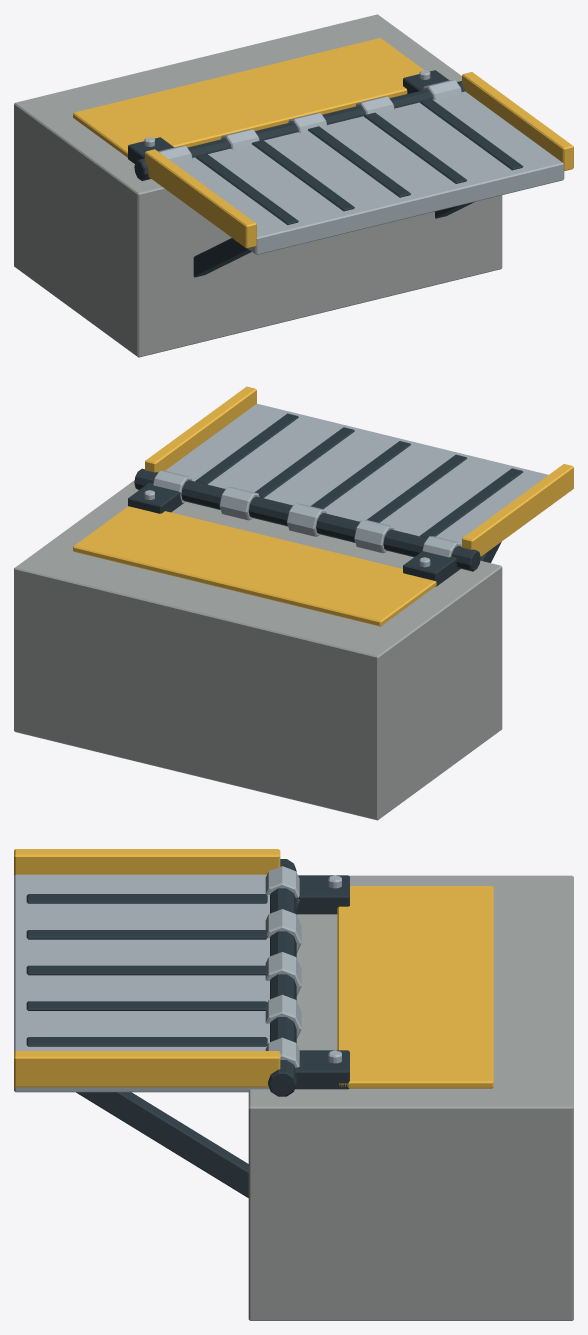
Rendered from b13_hinged_platform_gap_bridge.glb.
The picture shows the model from 3 angles, top to bottom: view 1: azimuth 30°, elevation 25°; view 2: azimuth 150°, elevation 25°; view 3: azimuth 270°, elevation 25°; orthographic projection. The views are drawn at different scales.
Parts seen in each view (by area): view 1: b13_hinged_platform_gap_bridge; view 2: b13_hinged_platform_gap_bridge; view 3: b13_hinged_platform_gap_bridge.
Boxes of the visible parts, x1=… form: b13_hinged_platform_gap_bridge: x1=14, y1=14, x2=573, y2=357; b13_hinged_platform_gap_bridge: x1=14, y1=386, x2=573, y2=820; b13_hinged_platform_gap_bridge: x1=14, y1=849, x2=573, y2=1320.
Bounding box in the file's own units: 1.3 × 0.66 × 1.33.
